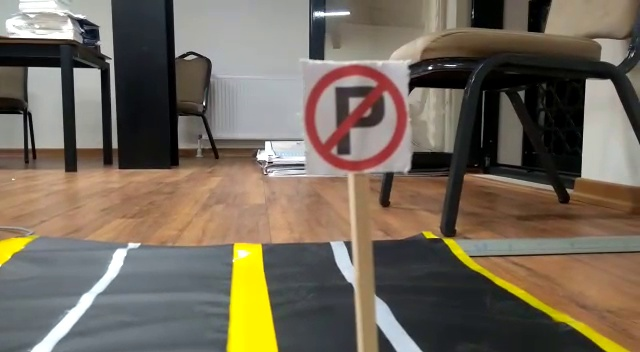park_yapilmaz: (298, 63, 408, 170)
